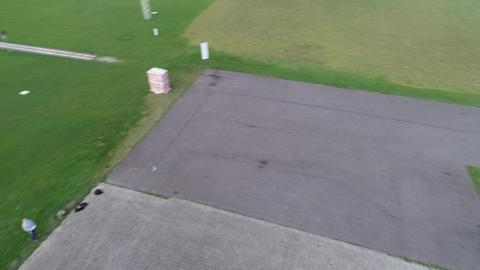RockwoolPallet: (146, 67, 171, 95)
